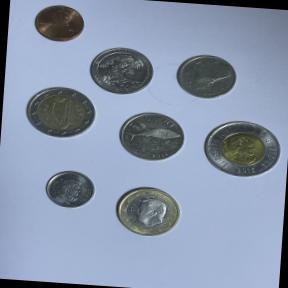1 Euro-B: (109, 182, 184, 244)
2 Euro-B: (17, 81, 99, 142)
Canada-10cent-B: (38, 164, 98, 214)
Canada-2Dollar-B: (196, 114, 284, 186)
Croatia-2Kune-B: (112, 106, 188, 166)
US-1cent-B: (30, 2, 88, 48)
US-25cent-B: (86, 43, 158, 98)
